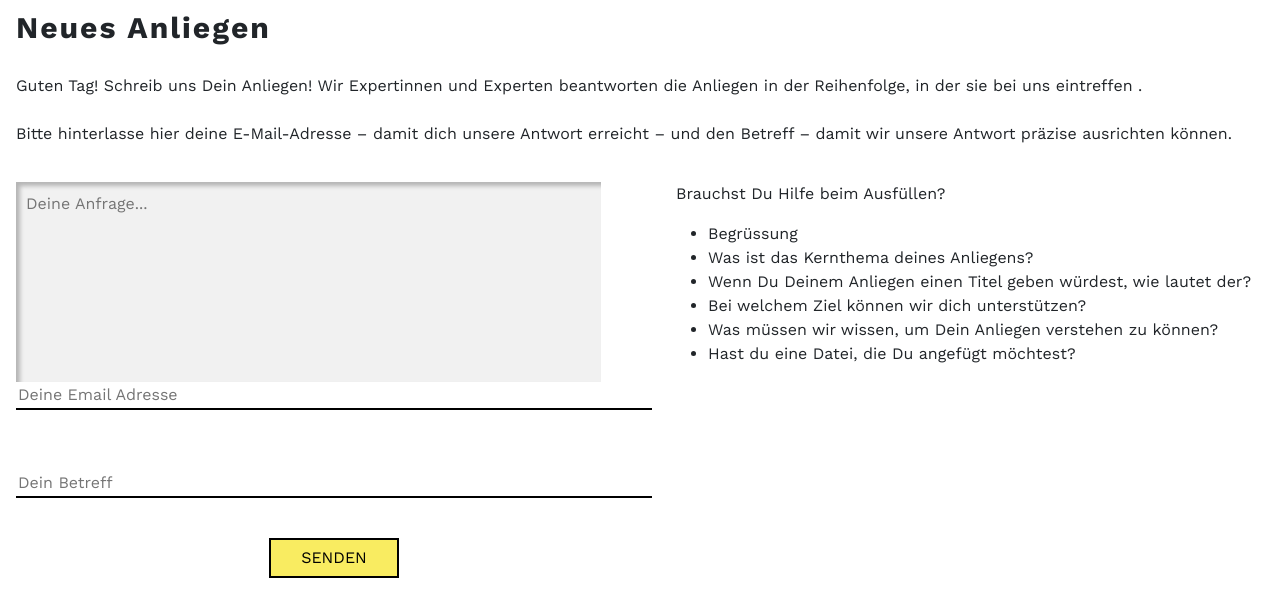
Test: Request component › sets the error state when the email is invalid
The image size is (1268, 612).
Type "invalid email" into the field with placeholder "Deine Email Adresse".
click(334, 396); type("invalid email")  # box [16, 382, 652, 410]
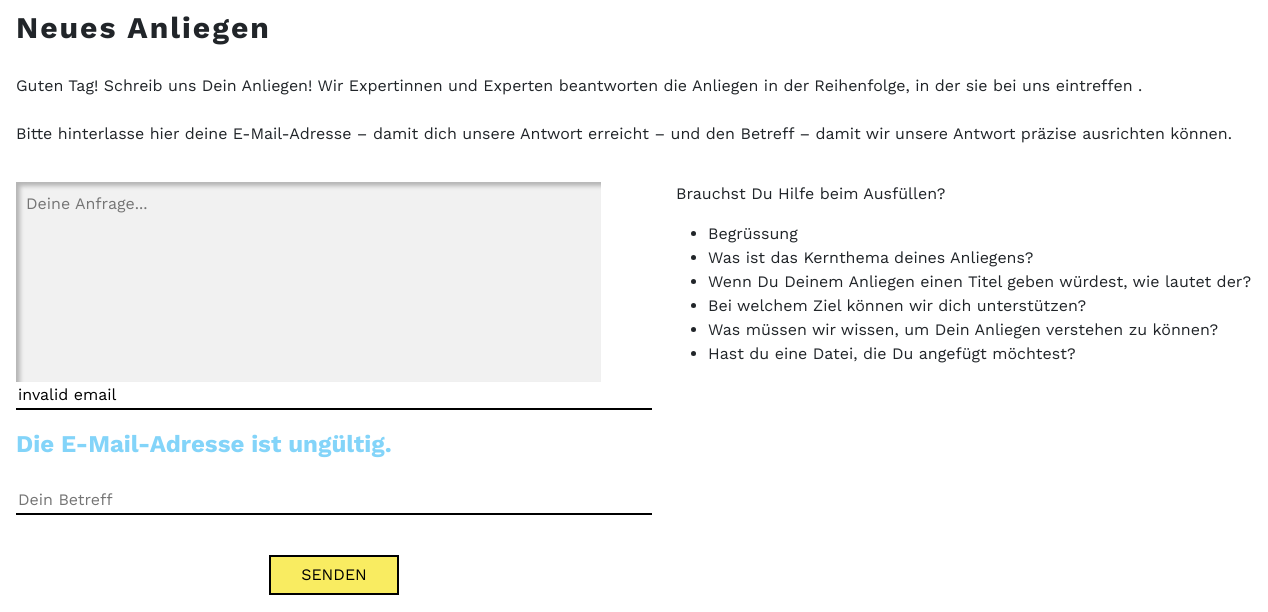
Check: the heading "Die E-Mail-Adresse ist ungültig." is shown, box [16, 430, 392, 459]
